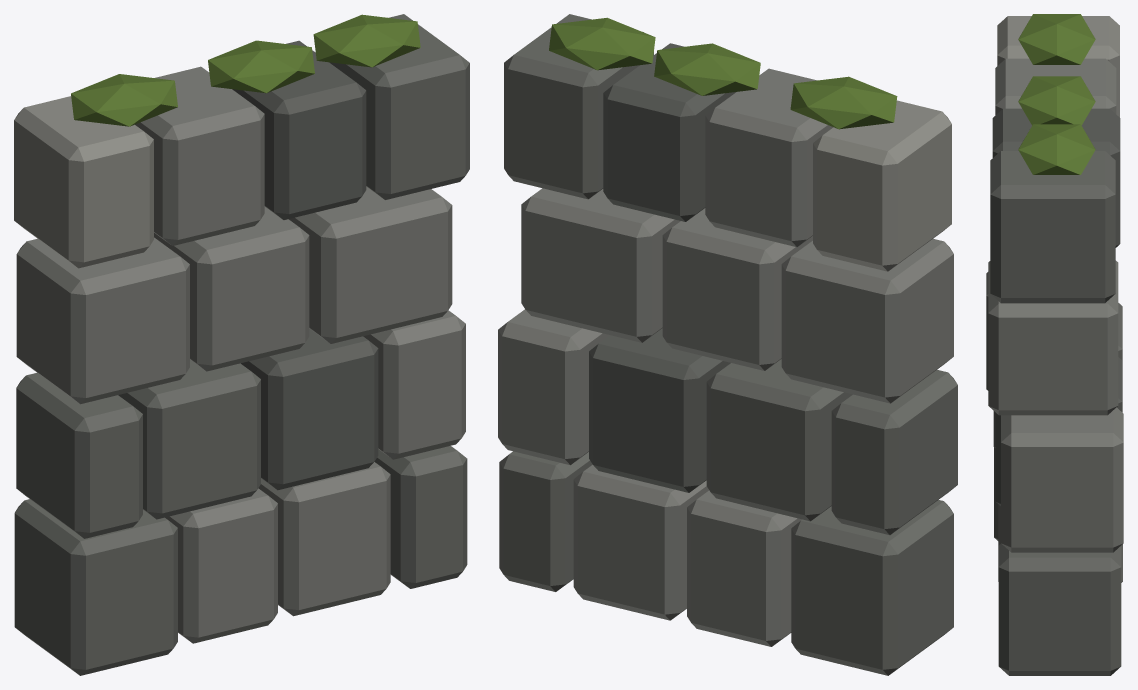
The model's file is wall_stone.glb.
The picture shows the model from 3 angles, left to right: view 1: azimuth 30°, elevation 25°; view 2: azimuth 150°, elevation 25°; view 3: azimuth 270°, elevation 25°; orthographic projection. The views are drawn at different scales.
Parts seen in each view (by area): view 1: WallStone; view 2: WallStone; view 3: WallStone.
Boxes of the visible parts, x1,y1,x2,y2 form: WallStone: (14, 14, 469, 675); WallStone: (498, 14, 957, 675); WallStone: (986, 14, 1123, 675).
Size of the model in its own units: 1.02 by 1.35 by 0.327.
